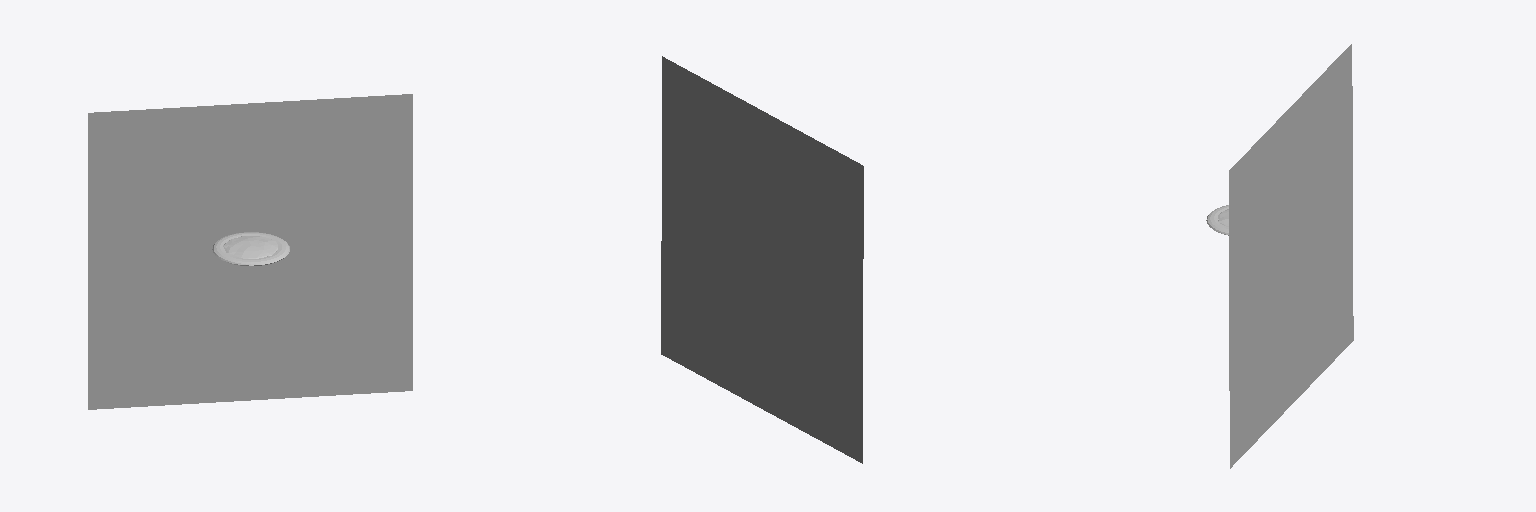
Rendered from wall.obj.
The picture shows the model from 3 angles: view 1: azimuth 30°, elevation 25°; view 2: azimuth 150°, elevation 25°; view 3: azimuth 270°, elevation 25°; orthographic projection.
Parts seen in each view (by area): view 1: Plane, Torus.001, Icosphere_Icosphere.001; view 2: Plane; view 3: Plane.
Boxes of the visible parts, box(x1,y1,x2,y2) form: Plane: box(88, 94, 412, 409); Torus.001: box(212, 232, 289, 265); Icosphere_Icosphere.001: box(223, 236, 277, 258); Plane: box(661, 56, 863, 463); Plane: box(1229, 44, 1353, 468).
Size of the model in its own units: 77.17 by 83.16 by 37.27.